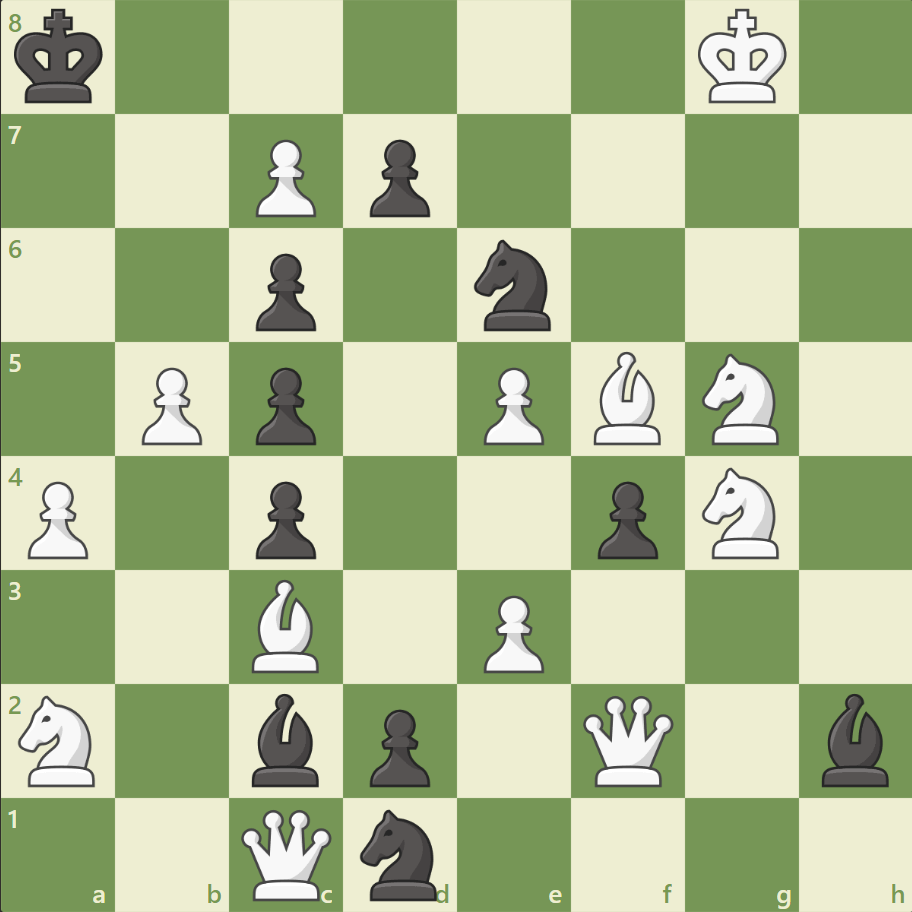B: (585, 347, 669, 449), (244, 574, 328, 676)
K: (692, 4, 792, 112)
N: (692, 461, 789, 564), (11, 688, 108, 791), (692, 348, 789, 450)
P: (247, 132, 322, 223), (133, 359, 208, 450), (474, 359, 549, 450), (20, 473, 95, 564), (474, 586, 549, 677)
Q: (578, 690, 677, 789), (237, 804, 336, 903)
b: (244, 687, 328, 790), (812, 687, 896, 790)
k: (11, 4, 111, 112)
n: (351, 802, 449, 904), (465, 234, 562, 337)
p: (247, 246, 322, 337), (247, 359, 322, 450), (247, 473, 322, 564), (361, 132, 435, 223), (588, 473, 662, 564), (361, 700, 435, 791)
